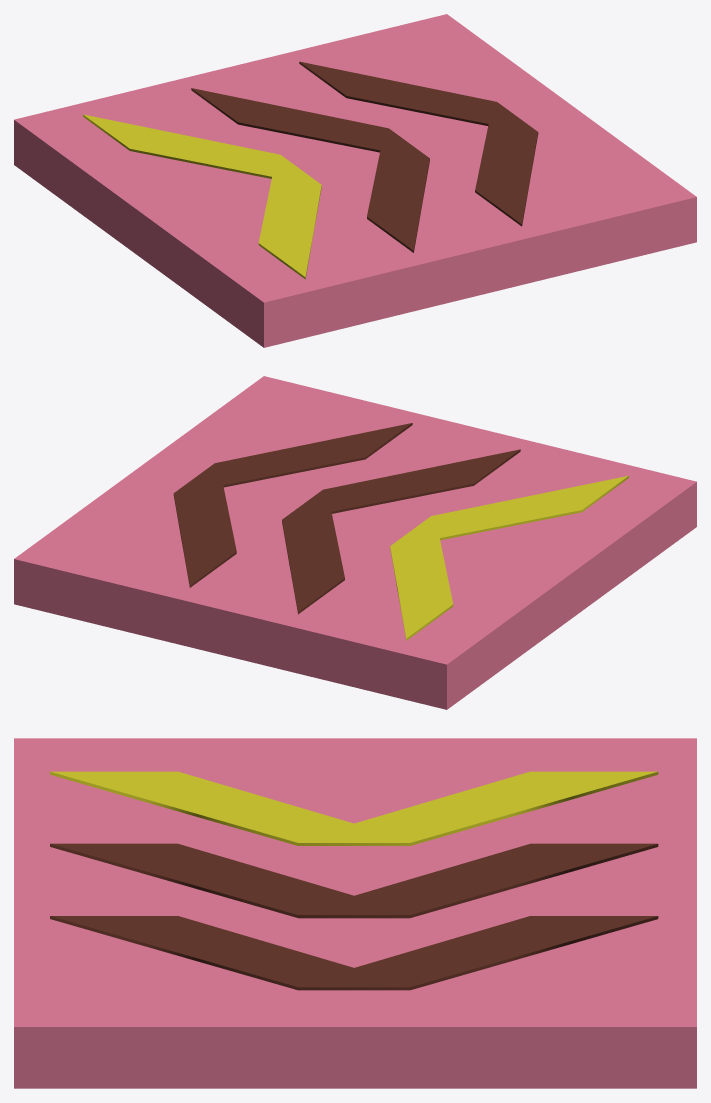
Rendered from SpeedUpPad.fbx.
The picture shows the model from 3 angles, top to bottom: view 1: azimuth 30°, elevation 25°; view 2: azimuth 150°, elevation 25°; view 3: azimuth 270°, elevation 25°; orthographic projection. The views are drawn at different scales.
Visible parts, largest first — view 1: Cube, Text.002, Text.001, Text; view 2: Cube, Text.002, Text, Text.001; view 3: Cube, Text.001, Text, Text.002.
Boxes of the visible parts, box(x1,y1,x2,y2) form: Cube: box(14, 14, 696, 347); Text.002: box(299, 61, 538, 226); Text.001: box(191, 88, 429, 252); Text: box(83, 114, 321, 279); Cube: box(14, 376, 696, 709); Text.002: box(173, 423, 412, 587); Text: box(390, 475, 628, 640); Text.001: box(282, 449, 520, 614); Cube: box(14, 738, 696, 1088); Text.001: box(50, 843, 658, 918); Text: box(50, 771, 658, 845); Text.002: box(50, 916, 658, 990).
Bounding box in the file's own units: 200 × 21 × 200.
